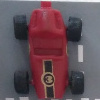carro: (15, 3, 85, 100)
